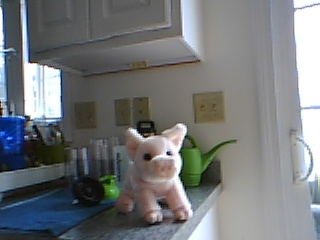piggy: (113, 121, 194, 224)
